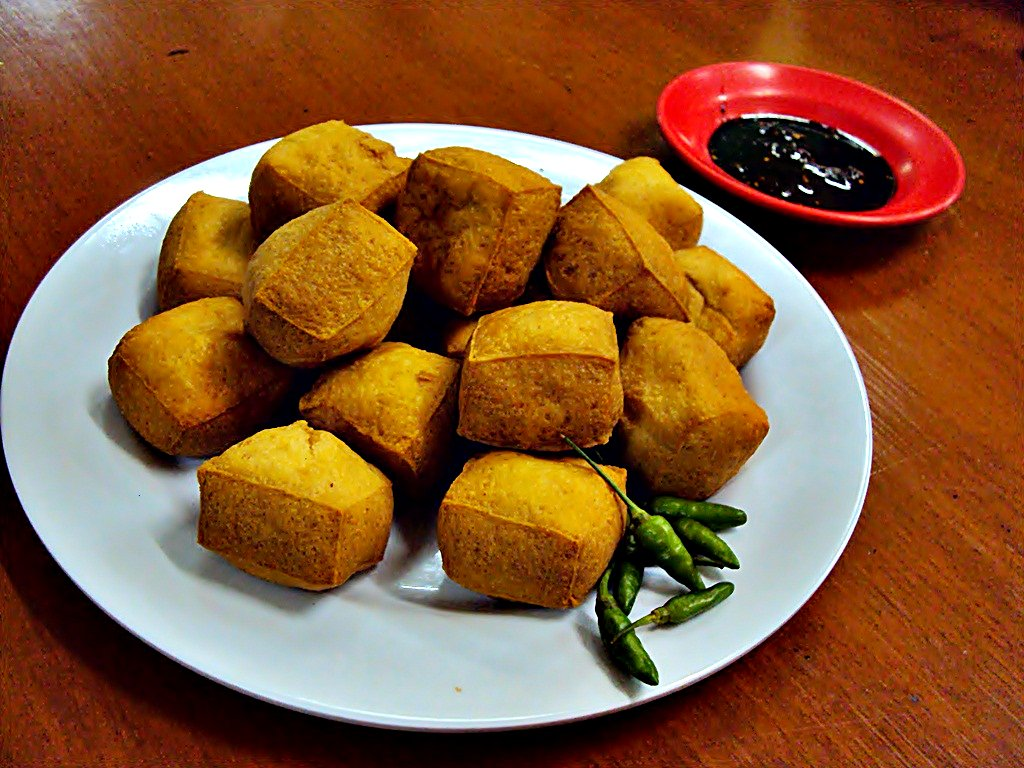Tahu: (412, 435, 636, 580), (119, 269, 288, 444), (454, 289, 629, 446), (191, 439, 385, 561), (393, 147, 520, 307), (259, 196, 404, 335), (622, 307, 761, 446), (544, 193, 668, 312), (257, 119, 405, 215), (177, 184, 276, 289)
